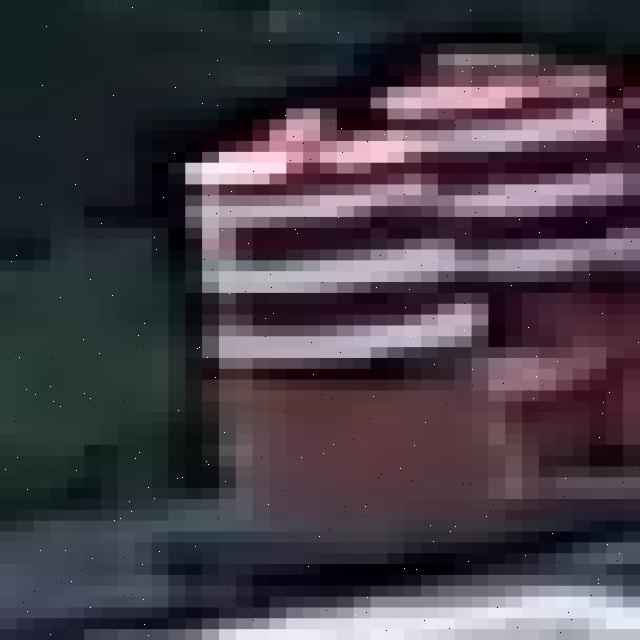big_cone: (190, 124, 463, 542)
